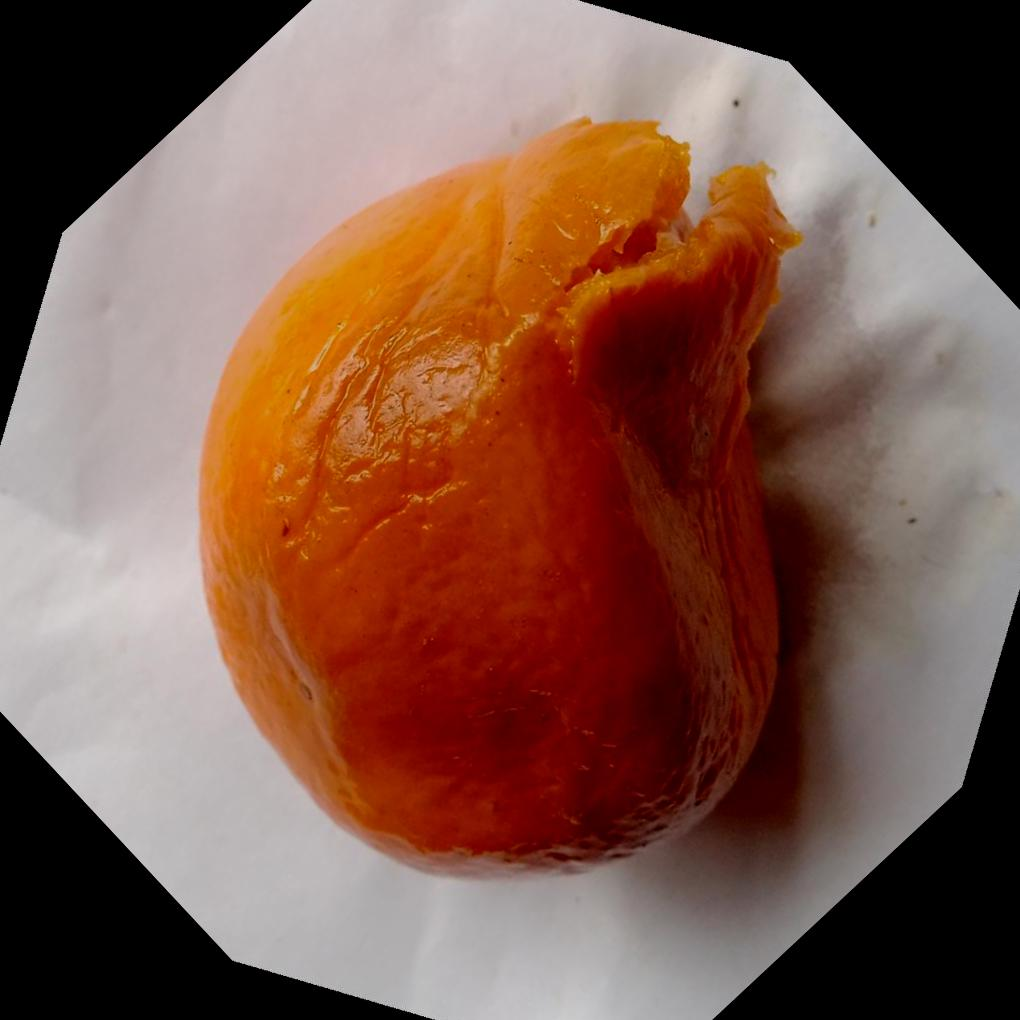FreshOrange: (196, 113, 804, 881)
